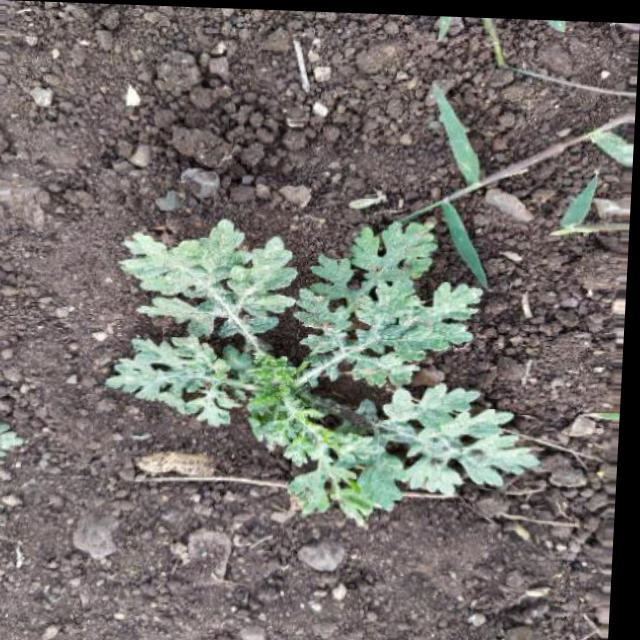weed: (113, 221, 555, 523)
